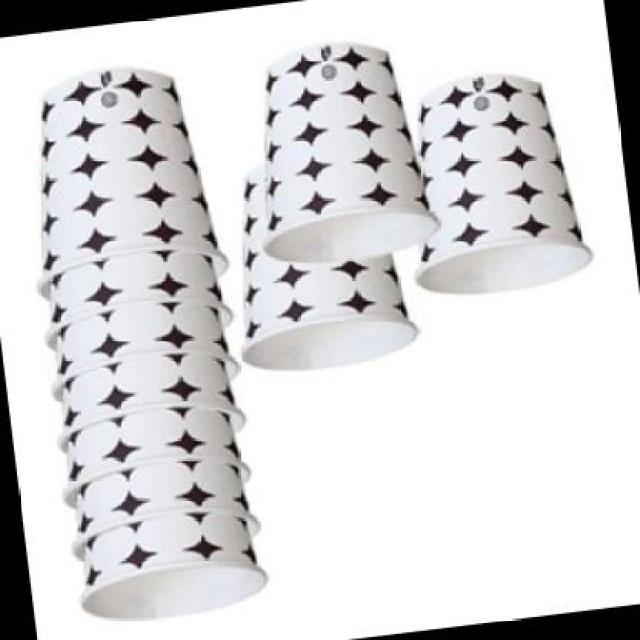non-biodegradable: (12, 52, 266, 640), (208, 8, 607, 382)
